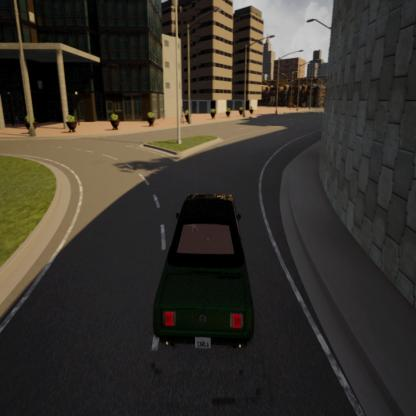Cars: (148, 182, 266, 366)
Pedestrian: (178, 103, 187, 127)
